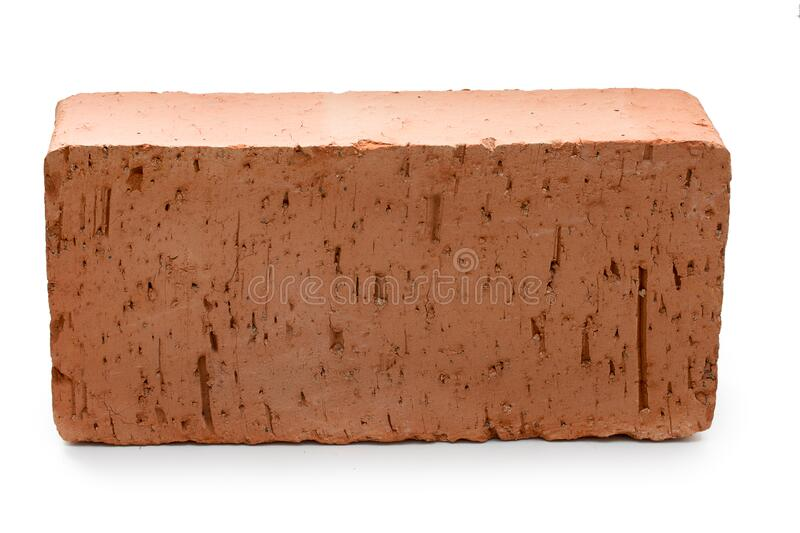brick: (53, 97, 715, 439)
